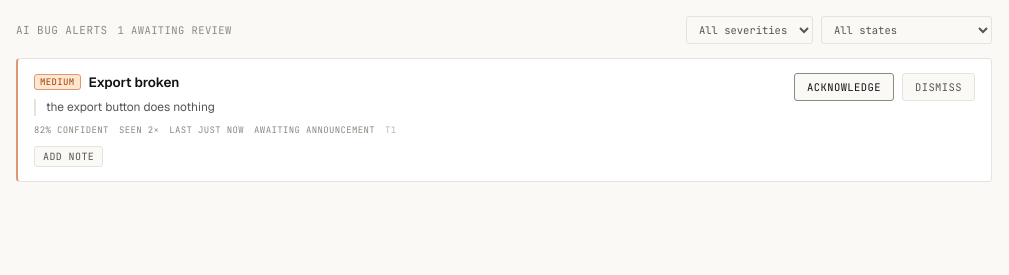
Test: BugAlertsPage › writes a note and shows its author
Click the button with class "note-edit". click: (69, 157)
box: [34,146,103,167]
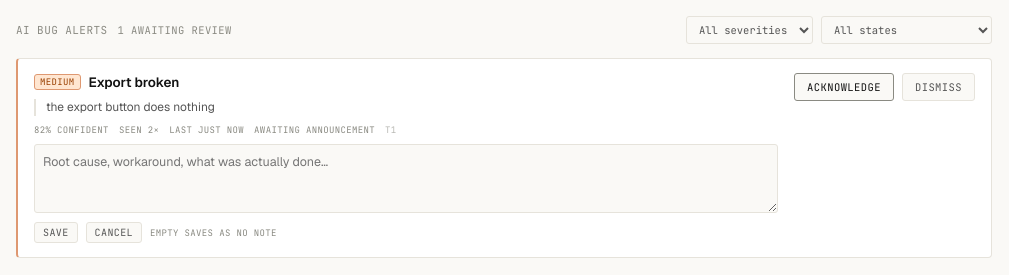
Type "stale cache key" into the text box with class "note-input". click: (406, 179)
box: [34,144,778,213]
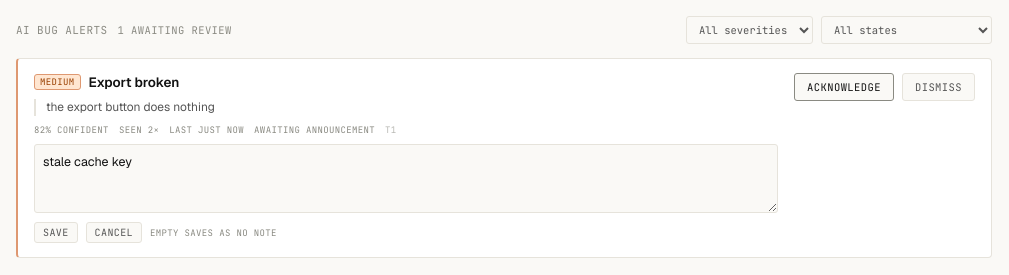
Click the button with class "note-save". click: (56, 233)
box: [34,222,78,243]
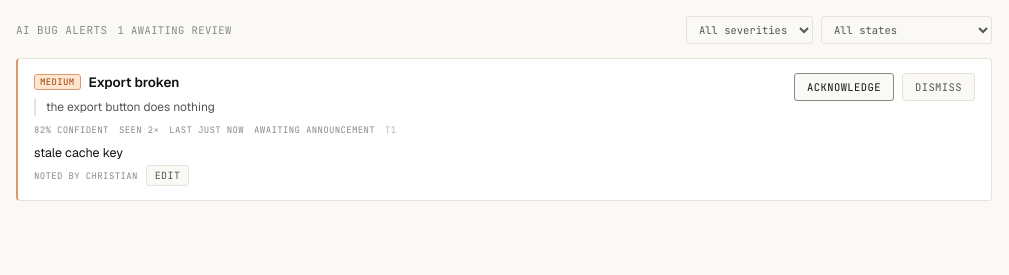
Expected: the text "stale cache key" is shown, [34,144,123,161]
Expected: the text "noted by Christian" is shown, [34,170,138,182]
